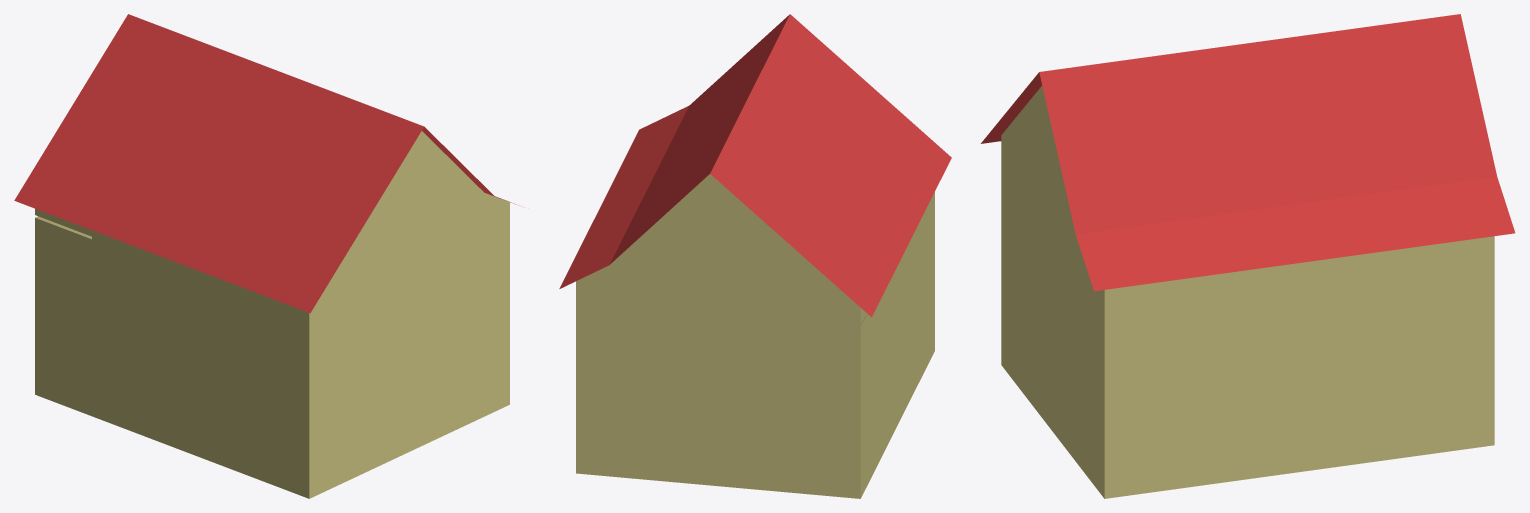
3 views of the same model, side by side, from view 1: azimuth 30°, elevation 25°; view 2: azimuth 150°, elevation 25°; view 3: azimuth 270°, elevation 25° (orthographic). The views are drawn at different scales.
Size of the model in its own units: 14.79 by 16.28 by 12.24.
